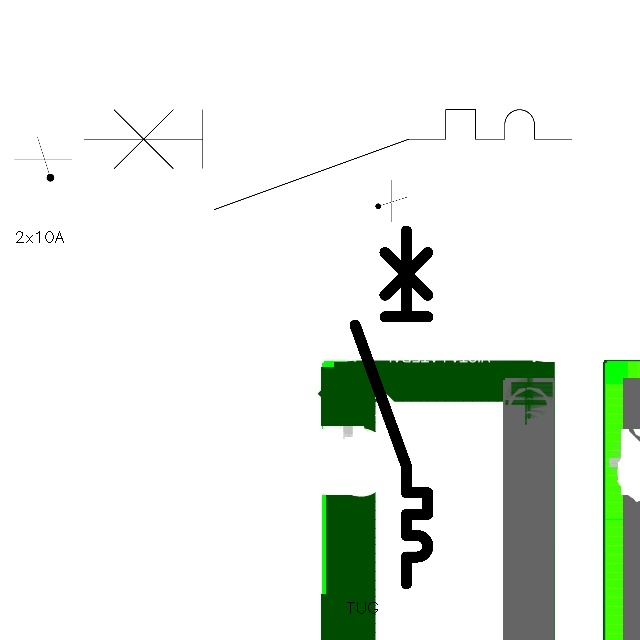interruptor_termomagnetico: (71, 97, 583, 222), (346, 221, 437, 592)
